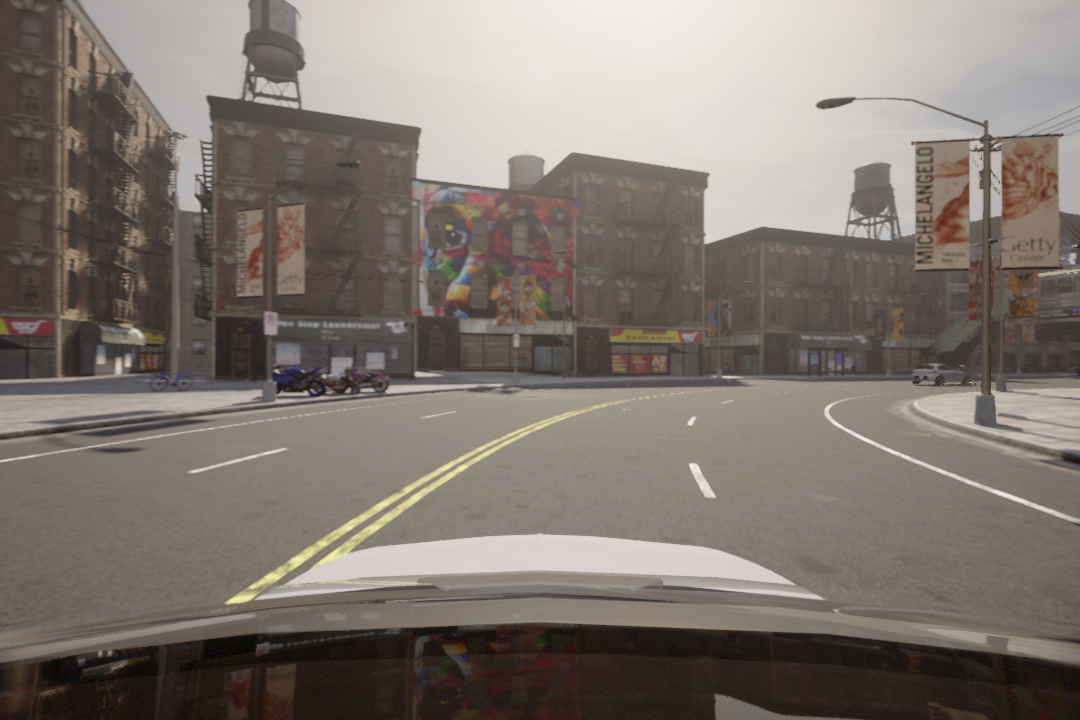TrafficSign_nstop: (264, 311, 279, 336)
